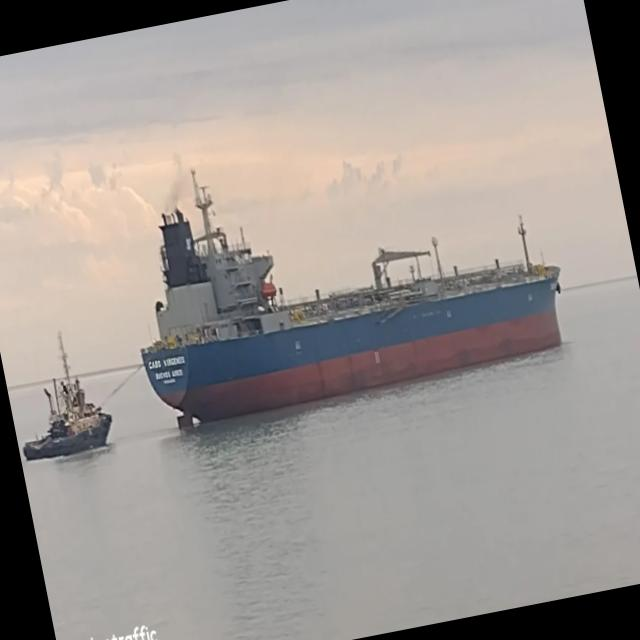Tanker: (141, 171, 561, 428)
Tug: (23, 333, 112, 461)
